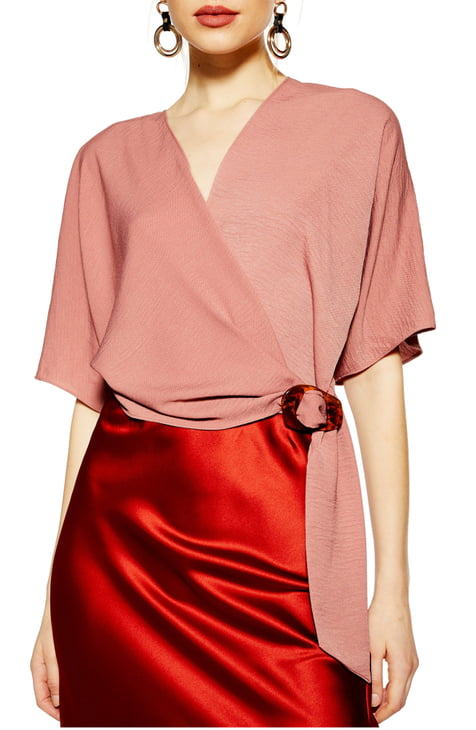C_short blouse: (40, 77, 440, 688)
C_skirt: (54, 404, 391, 730)
